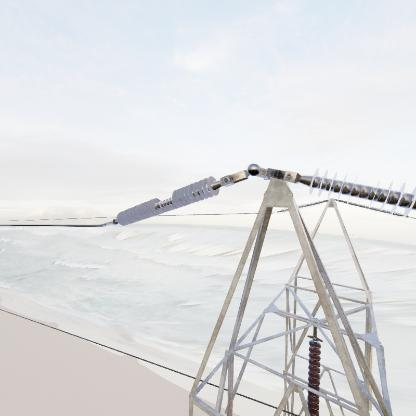insulator: (112, 175, 223, 228), (308, 337, 323, 416)
